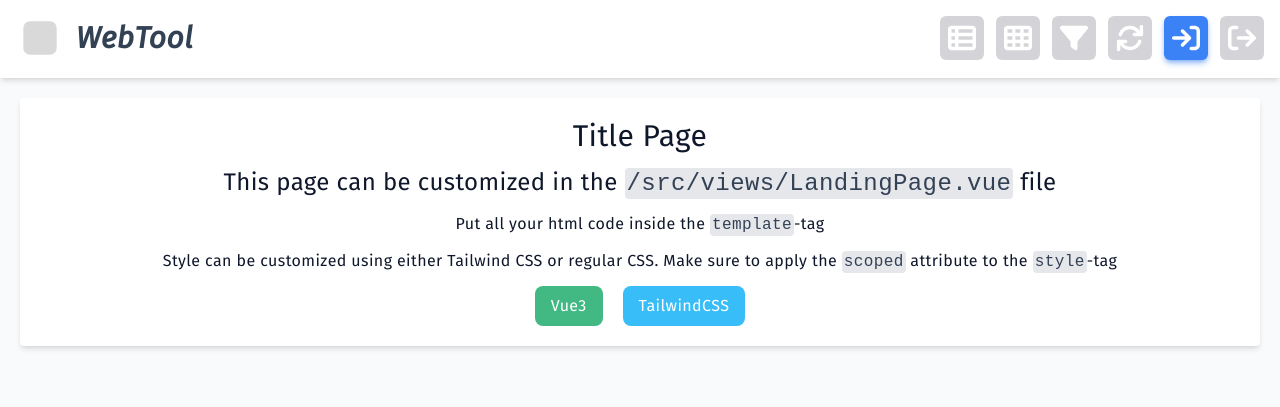
Test: login › login button enabled
The image size is (1280, 407).
Click the button named "Login" at (1186, 38), box top-left (1164, 16), bottom-right (1208, 60)
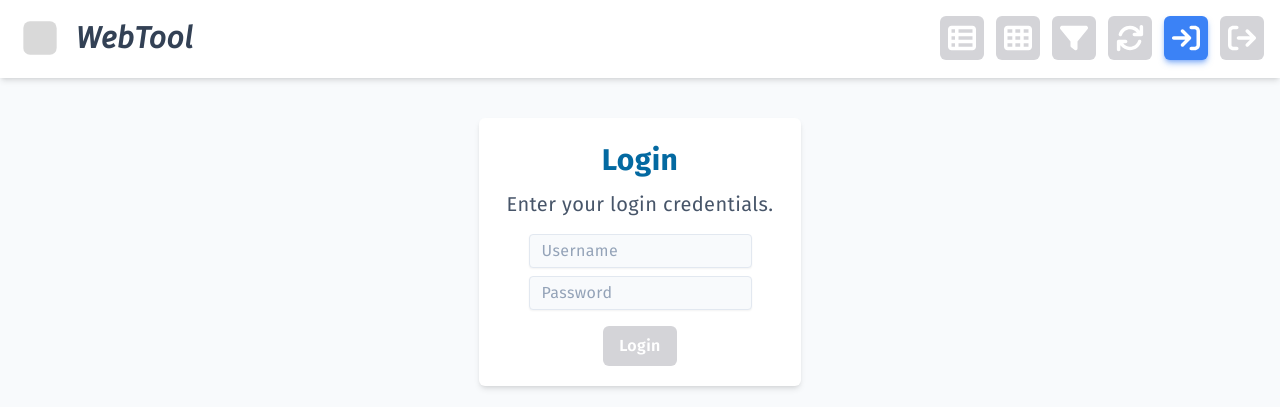
Check: the button with id "logout-button" is disabled, box top-left (1220, 16), bottom-right (1264, 60)
Check: the button "Login" is shown, box top-left (603, 326), bottom-right (677, 366)
